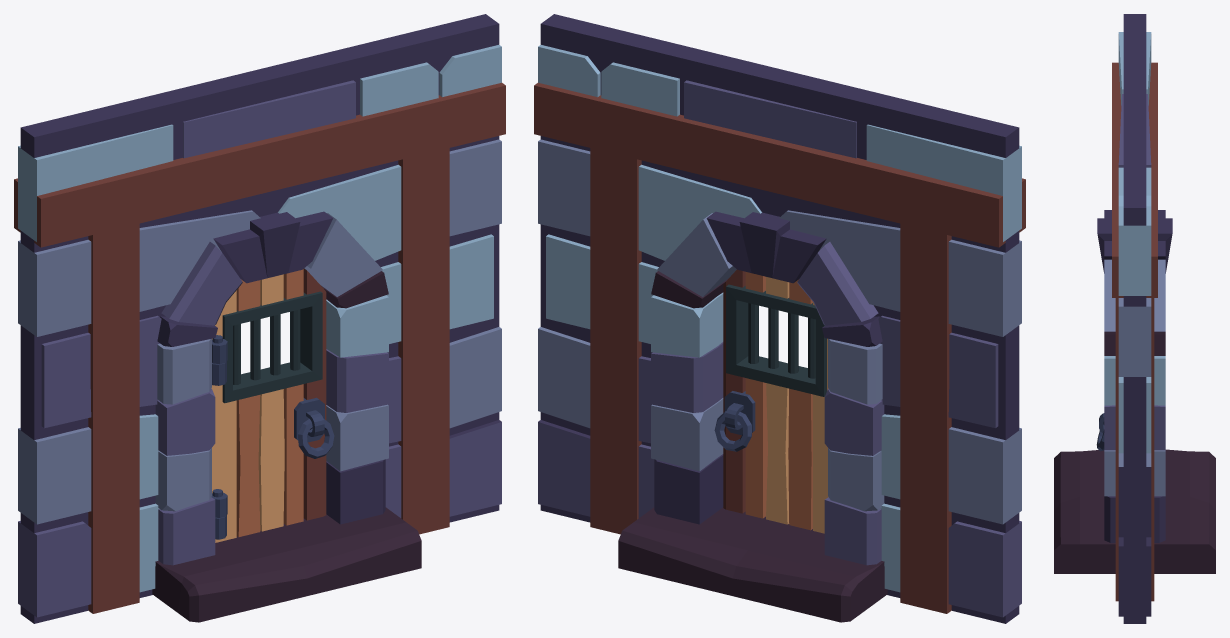
Rendered from Modular Wall 09 MK2 D1.fbx.
3 renders of one model, left to right at view 1: azimuth 30°, elevation 25°; view 2: azimuth 150°, elevation 25°; view 3: azimuth 270°, elevation 25°, orthographic. The views are drawn at different scales.
Visible parts, largest first — view 1: Modular Wall 09 MK2 D1, Modular Wall 09 D1 Doors; view 2: Modular Wall 09 MK2 D1, Modular Wall 09 D1 Doors; view 3: Modular Wall 09 MK2 D1, Modular Wall 09 D1 Doors.
Part boxes in pixels (<box>): Modular Wall 09 MK2 D1: <box>14,14,505,623</box>; Modular Wall 09 D1 Doors: <box>211,268,334,542</box>; Modular Wall 09 MK2 D1: <box>534,14,1025,623</box>; Modular Wall 09 D1 Doors: <box>714,269,828,533</box>; Modular Wall 09 MK2 D1: <box>1054,14,1215,623</box>; Modular Wall 09 D1 Doors: <box>1096,413,1104,451</box>.
Size of the model in its own units: 400 by 400 by 141.
